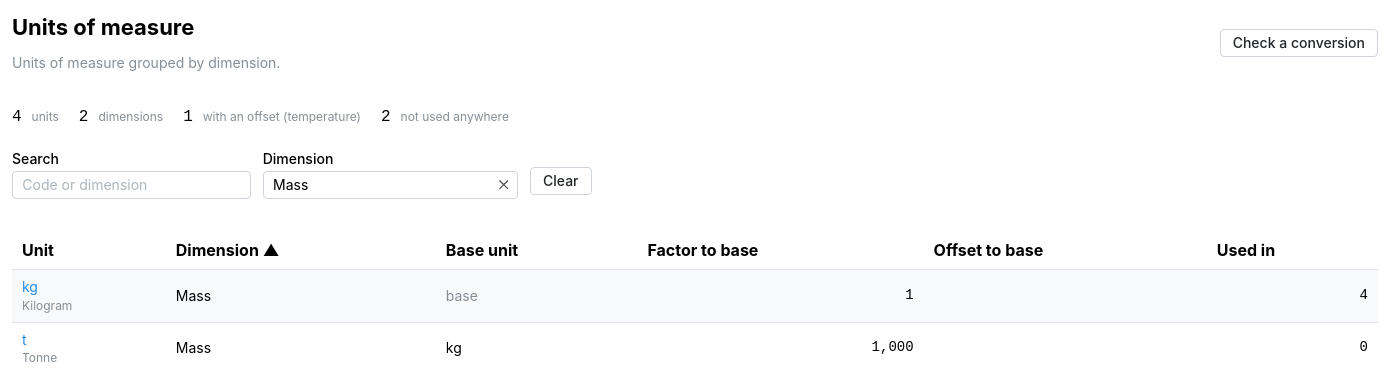
Test: UnitsPage на шаблоні переліку (UI-21) › пошук і розмірність — у рядку фільтрів, значення в адресі
Check: the button "t" is shown, box x1=22 y1=330 x2=27 y2=350
Type "temp" into the field labelled "Search" at (131, 185), box x1=12 y1=171 x2=251 y2=199
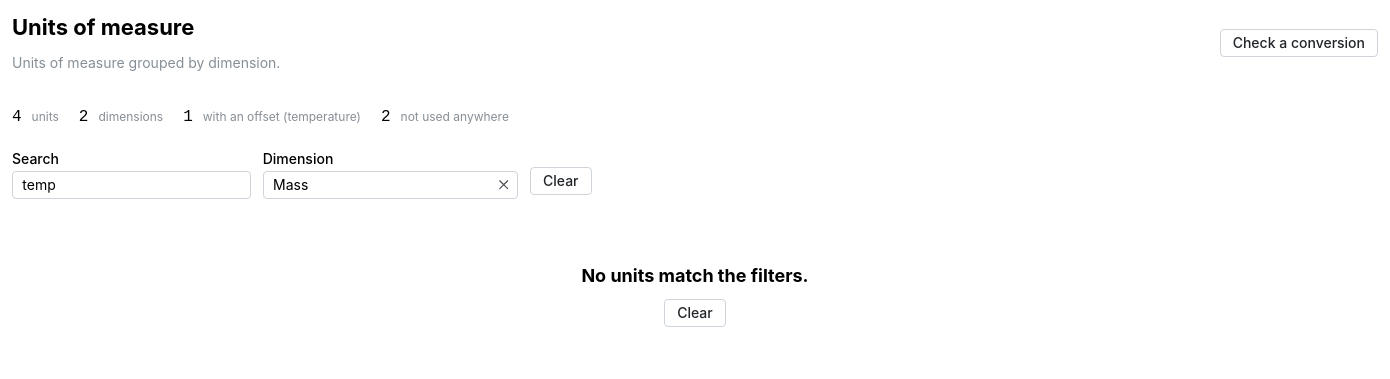
Check: the heading "No units match the filters." is shown, box x1=581 y1=263 x2=809 y2=289
